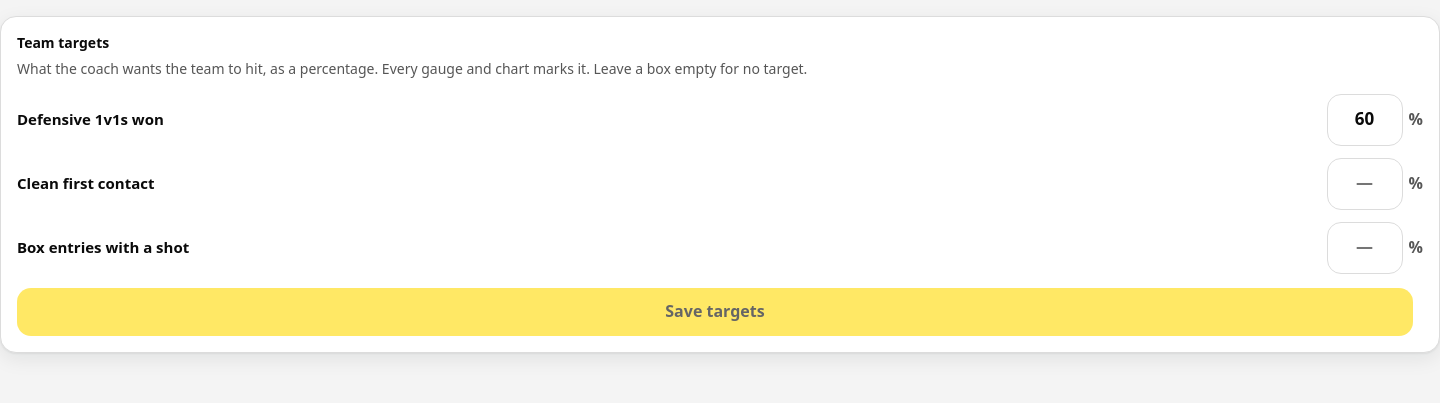
Test case: TeamTargets › won't save a target over 100%, and says why a save failed
Type "150" into the field labelled "Clean first contact".
click(1365, 184); type("150")  # box [1327, 158, 1403, 210]
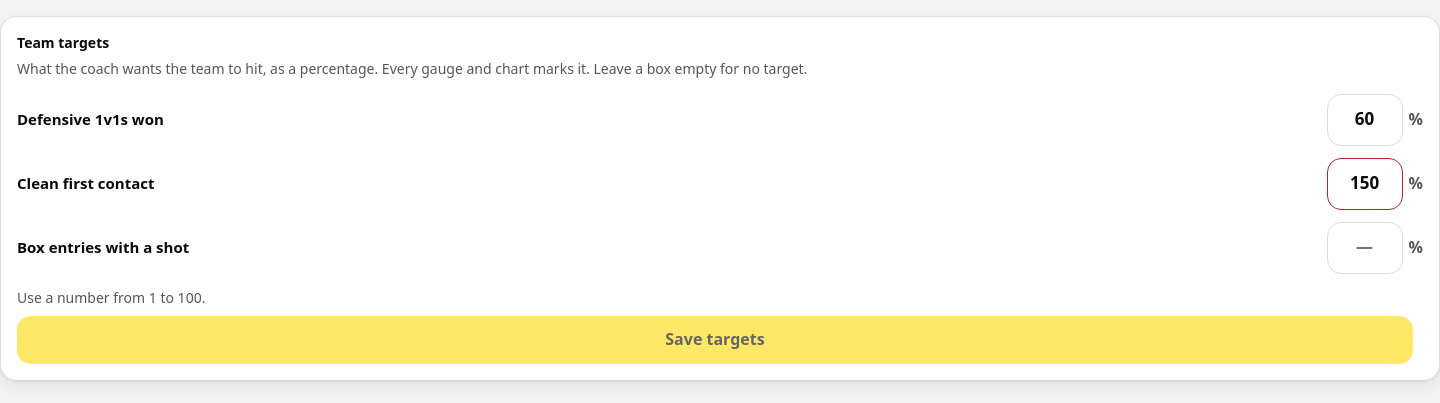
expect the button "Save targets" is disabled: met, box [17, 316, 1413, 364]
expect the message shows "1 to 100": met, box [17, 288, 205, 307]
Replace the text in the field labelled "Clean first contact" with "65" at (1365, 184), box [1327, 158, 1403, 210]
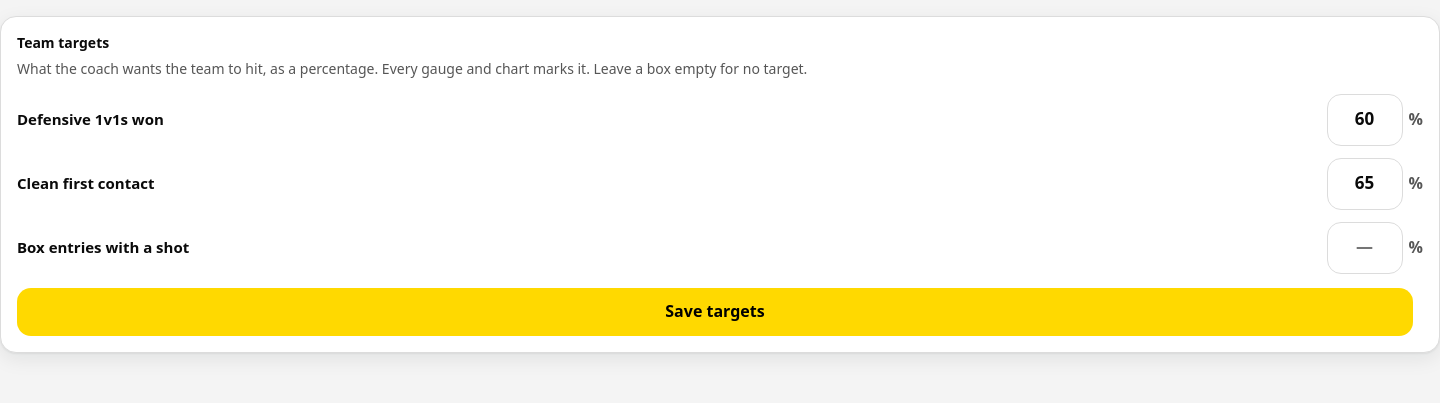
Click the button "Save targets".
click(715, 312)  # box [17, 288, 1413, 336]
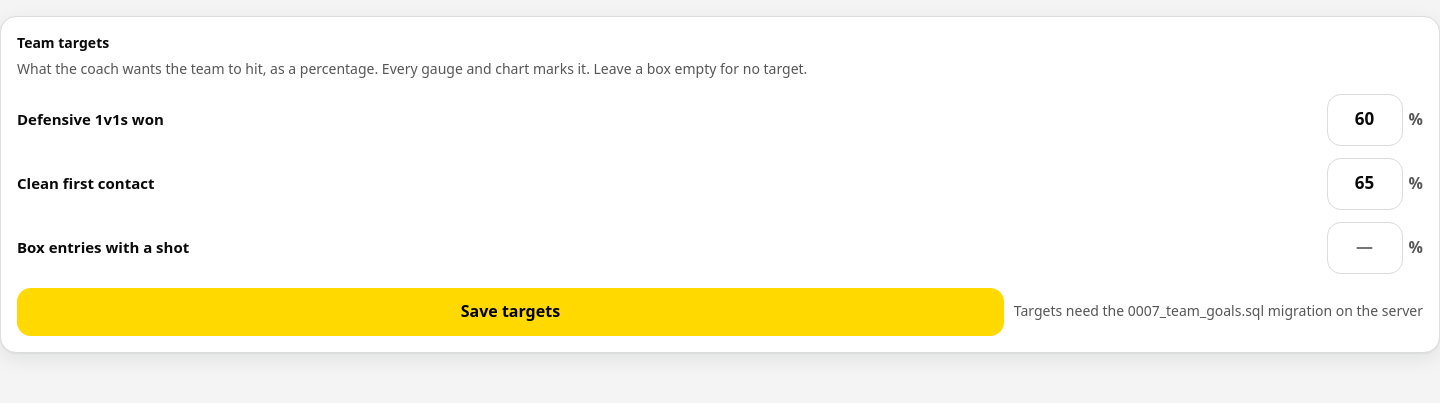
expect the text "Targets need the 0007_team_goals.sql migration on the server" is shown: met, box [1014, 301, 1423, 322]
